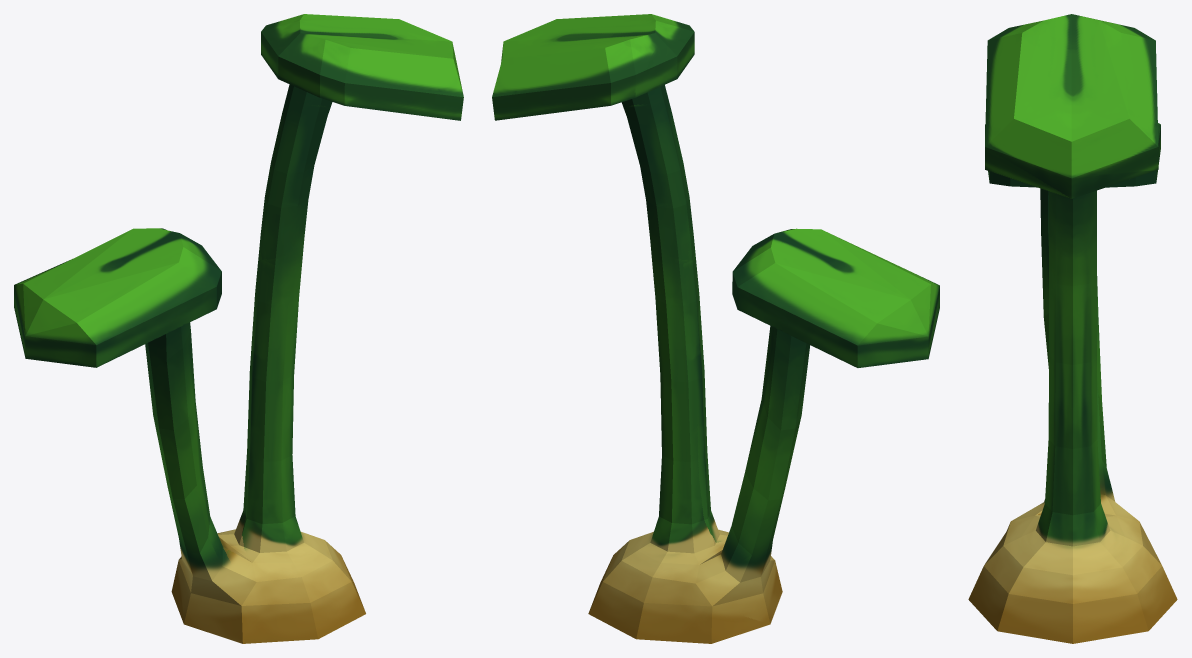
The model's file is Prop_Plant_1.fbx.
The picture shows the model from 3 angles, left to right: view 1: azimuth 30°, elevation 25°; view 2: azimuth 150°, elevation 25°; view 3: azimuth 270°, elevation 25°; orthographic projection. The views are drawn at different scales.
Parts seen in each view (by area): view 1: Cube; view 2: Cube; view 3: Cube.
Part boxes in pixels (x1,y1,x2,y2): Cube: (14, 14, 463, 643); Cube: (492, 14, 939, 643); Cube: (968, 14, 1177, 643).
Size of the model in its own units: 160 by 200 by 63.
1 material, 1 textured.
